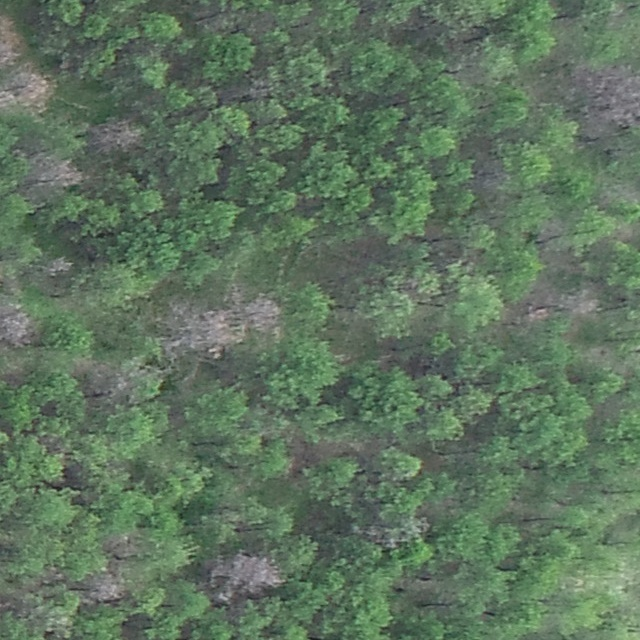unhealthy: (174, 300, 247, 360), (580, 62, 640, 134), (210, 551, 285, 600), (76, 359, 131, 400), (29, 152, 85, 190), (92, 116, 144, 154), (0, 304, 39, 347), (244, 294, 284, 333), (16, 67, 53, 108), (563, 289, 601, 322), (86, 574, 126, 604), (103, 530, 143, 558), (360, 520, 400, 548), (0, 16, 20, 68), (45, 255, 72, 276), (0, 85, 16, 111)
